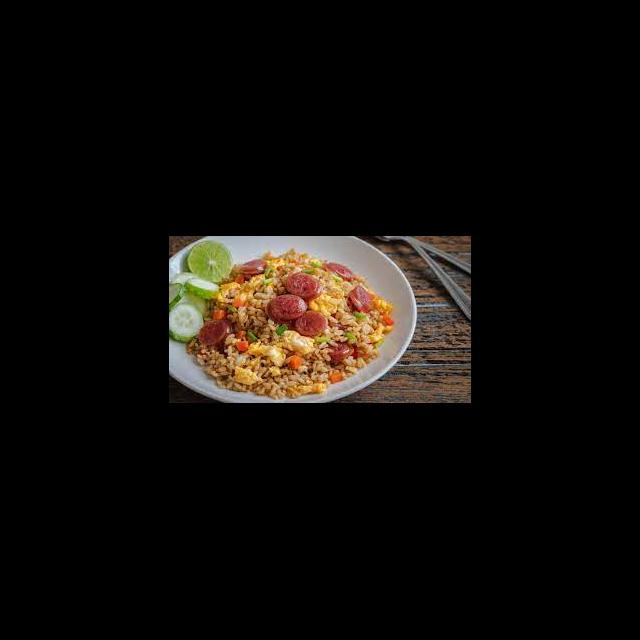food_waste: (219, 269, 345, 377)
